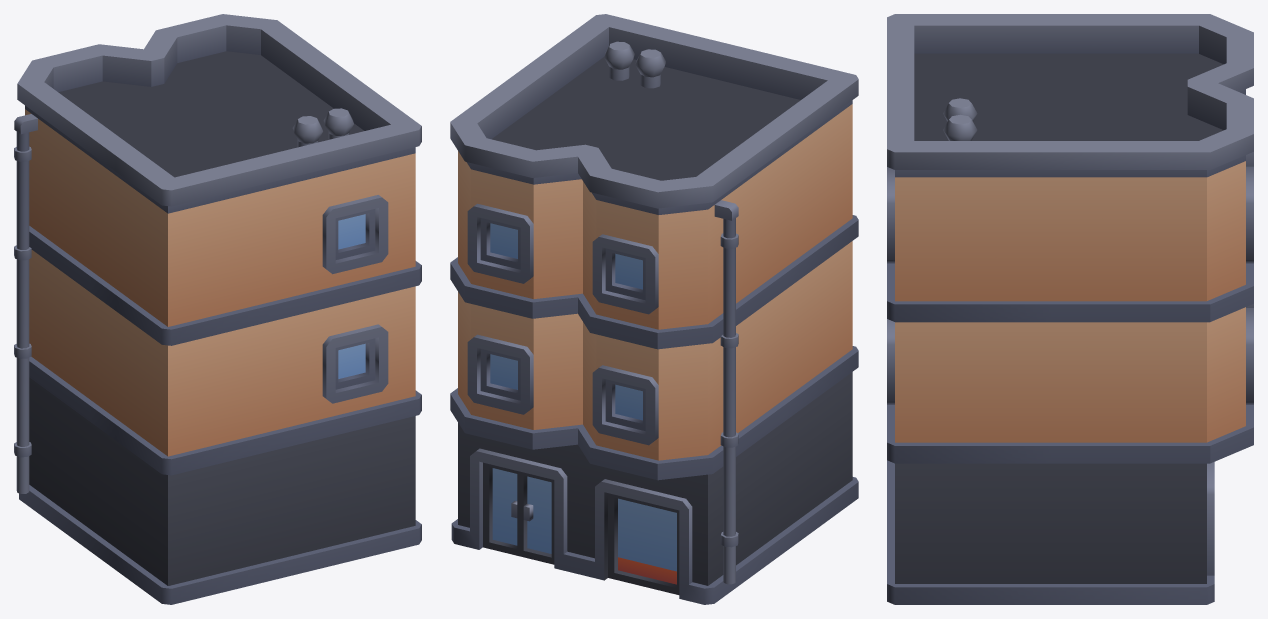
The model's file is building-a.glb.
The picture shows the model from 3 angles, left to right: view 1: azimuth 30°, elevation 25°; view 2: azimuth 150°, elevation 25°; view 3: azimuth 270°, elevation 25°; orthographic projection. The views are drawn at different scales.
Parts seen in each view (by area): view 1: building-a; view 2: building-a; view 3: building-a.
Boxes of the visible parts, left/top/right/bottom form: building-a: left=14, top=14, right=421, bottom=604; building-a: left=450, top=14, right=858, bottom=604; building-a: left=887, top=14, right=1253, bottom=604.
Bounding box in the file's own units: 0.8836 × 1.29 × 0.94.
Materials: 1 (1 with a texture image).
